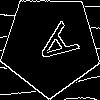A: (25, 20, 80, 74)
